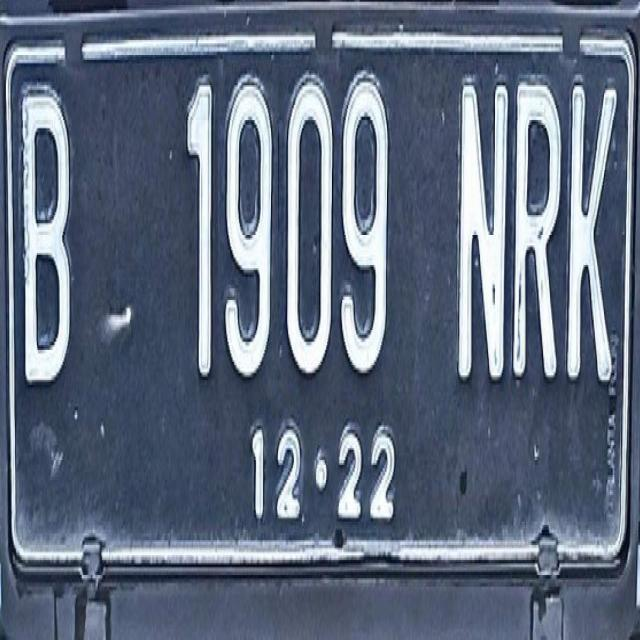0: (278, 64, 338, 386)
1: (176, 68, 222, 400)
9: (222, 71, 278, 397), (339, 58, 391, 392)
B: (15, 74, 78, 391)
K: (565, 57, 621, 426)
M: (456, 61, 509, 416)
R: (510, 60, 564, 412)
